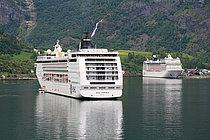Ship: (31, 29, 129, 102), (141, 52, 186, 82)
